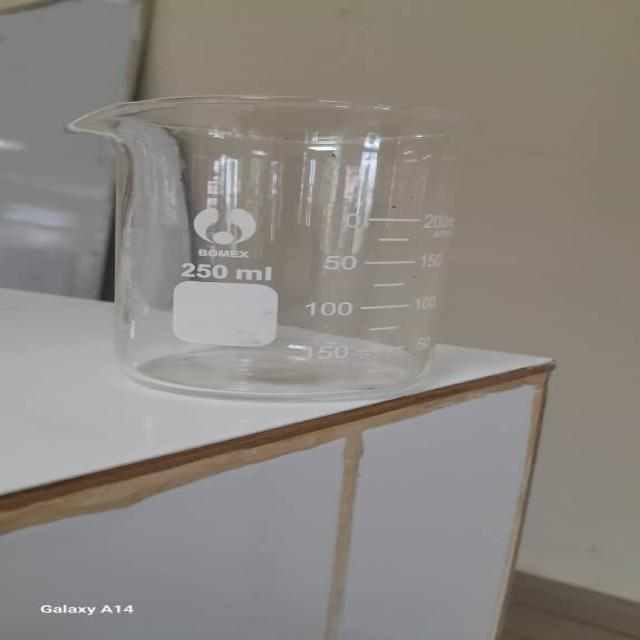Beakers: (63, 86, 505, 404)
